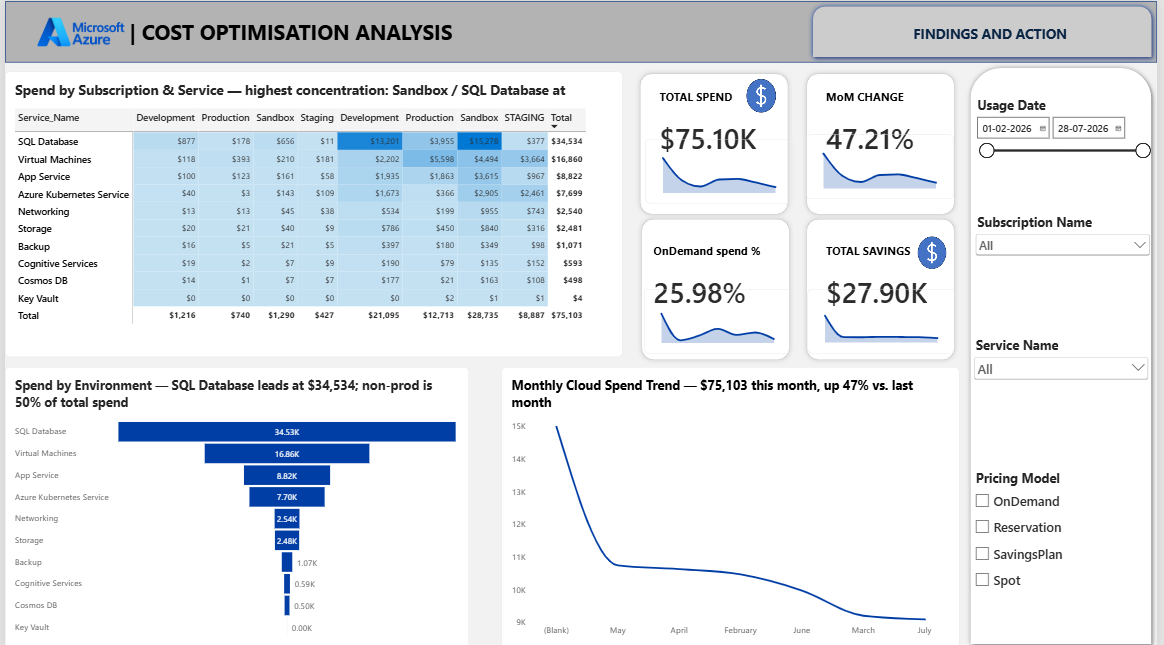

What the dashboard file says about the page in this screenshot:
{"tool":"powerbi","page":{"name":"EXECUTIVE OVERVIEW","canvas":[1920,1080],"ordinal":0},"visuals":[{"type":"shape","box":[0,0,1920.1,102.5],"z":0},{"type":"image","box":[0,0,251.3,102.5],"z":1000},{"type":"shape","box":[125,0,702.5,102.5],"z":2000},{"type":"shape","box":[1600.5,102.5,319.6,978.4],"z":3000},{"type":"shape","box":[1049.1,112.2,263.5,251.3],"z":4000},{"type":"cardVisual","fields":{"Data":["public azure_billing.Total Spend"]},"box":[1074.3,130.9,212.3,146.4],"z":5000},{"type":"image","box":[1215,130.9,90.3,56.1],"z":6000},{"type":"areaChart","fields":{"Category":["public azure_billing.Usage_Date.Variation.Date Hierarchy.Month"],"Y":["public azure_billing.Total Spend"]},"box":[1067,231,246.4,107.4],"z":7000},{"type":"shape","box":[1328.1,112.2,263.5,251.3],"z":8000},{"type":"cardVisual","fields":{"Data":["public azure_billing.MoM Spend Change %"]},"box":[1351.7,129.3,212.3,146.4],"z":9000},{"type":"areaChart","fields":{"Category":["public azure_billing.Usage_Date.Variation.Date Hierarchy.Month"],"Y":["public azure_billing.Total Spend"]},"box":[1334.6,222,246.4,107.4],"z":10000},{"type":"shape","box":[1051.6,356.2,263.5,251.3],"z":11000},{"type":"cardVisual","fields":{"Data":["public azure_billing.OnDemand Spend %"]},"box":[1066.2,387.9,212.3,146.4],"z":12000},{"type":"areaChart","fields":{"Category":["public azure_billing.Usage_Date.Variation.Date Hierarchy.Month"],"Y":["public azure_billing.OnDemand Spend"]},"box":[1066.2,480.6,246.4,107.4],"z":13000},{"type":"shape","box":[1327.3,356.2,263.5,251.3],"z":14000},{"type":"cardVisual","fields":{"Data":["public azure_billing.Total Identified Savings Opportunity"]},"box":[1351.7,387.9,212.3,146.4],"z":15000},{"type":"image","box":[1500.5,392.8,90.3,53.7],"z":16000},{"type":"areaChart","fields":{"Category":["public azure_billing.Usage_Date.Variation.Date Hierarchy.Month"],"Y":["public azure_billing.Total Identified Savings Opportunity"]},"box":[1337,480.6,246.4,107.4],"z":17000},{"type":"lineChart","fields":{"Category":["public azure_billing.Usage_Date.Variation.Date Hierarchy.Month"],"Y":["public azure_billing.Total Spend"]},"box":[827.1,610,763.7,470.9],"z":18000},{"type":"funnel","fields":{"Category":["public azure_billing.Service_Name"],"Y":["public azure_billing.Total Spend"]},"box":[0,610,773.4,470.9],"z":19000},{"type":"pivotTable","fields":{"Columns":["public azure_billing.Subscription_Name"],"Rows":["public azure_billing.Service_Name"],"Values":["public azure_billing.Total Spend"]},"box":[0,117.1,1029.6,475.8],"z":20000},{"type":"slicer","fields":{"Values":["public azure_billing.Usage_Date"]},"box":[1612.5,157.5,300,172.5],"z":21000},{"type":"slicer","fields":{"Values":["public azure_billing.Subscription_Name"]},"box":[1612.5,352.5,300,107.5],"z":22000},{"type":"slicer","fields":{"Values":["public azure_billing.Service_Name"]},"box":[1610,557.5,300,105],"z":23000},{"type":"slicer","fields":{"Values":["public azure_billing.Pricing_Model"]},"box":[1610,780,300,300],"z":24000},{"type":"actionButton","box":[1337.5,0,582.5,102.5],"z":25000}]}

Visuals, with their boxes in screenshot pixels (x1, y1, x2, y2), scaled from the page's 1920x1080 canvas onto the 1164x645 screenshot:
shape: 0:0:1163:61
image: 0:0:152:61
shape: 76:0:502:61
shape: 970:61:1163:644
shape: 636:67:796:217
cardVisual - public azure_billing.Total Spend: 651:78:780:166
image: 737:78:791:112
areaChart - public azure_billing.Usage_Date.Variation.Date Hierarchy.Month x public azure_billing.Total Spend: 647:138:796:202
shape: 805:67:965:217
cardVisual - public azure_billing.MoM Spend Change %: 819:77:948:165
areaChart - public azure_billing.Usage_Date.Variation.Date Hierarchy.Month x public azure_billing.Total Spend: 809:133:958:197
shape: 638:213:797:363
cardVisual - public azure_billing.OnDemand Spend %: 646:232:775:319
areaChart - public azure_billing.Usage_Date.Variation.Date Hierarchy.Month x public azure_billing.OnDemand Spend: 646:287:796:351
shape: 805:213:964:363
cardVisual - public azure_billing.Total Identified Savings Opportunity: 819:232:948:319
image: 910:235:964:267
areaChart - public azure_billing.Usage_Date.Variation.Date Hierarchy.Month x public azure_billing.Total Identified Savings Opportunity: 811:287:960:351
lineChart - public azure_billing.Usage_Date.Variation.Date Hierarchy.Month x public azure_billing.Total Spend: 501:364:964:644
funnel - public azure_billing.Service_Name x public azure_billing.Total Spend: 0:364:469:644
pivotTable - public azure_billing.Subscription_Name x public azure_billing.Service_Name: 0:70:624:354
slicer - public azure_billing.Usage_Date: 978:94:1159:197
slicer - public azure_billing.Subscription_Name: 978:211:1159:275
slicer - public azure_billing.Service_Name: 976:333:1158:396
slicer - public azure_billing.Pricing_Model: 976:466:1158:644
actionButton: 811:0:1163:61
